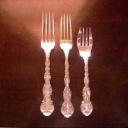Fork: (33, 13, 101, 123)
